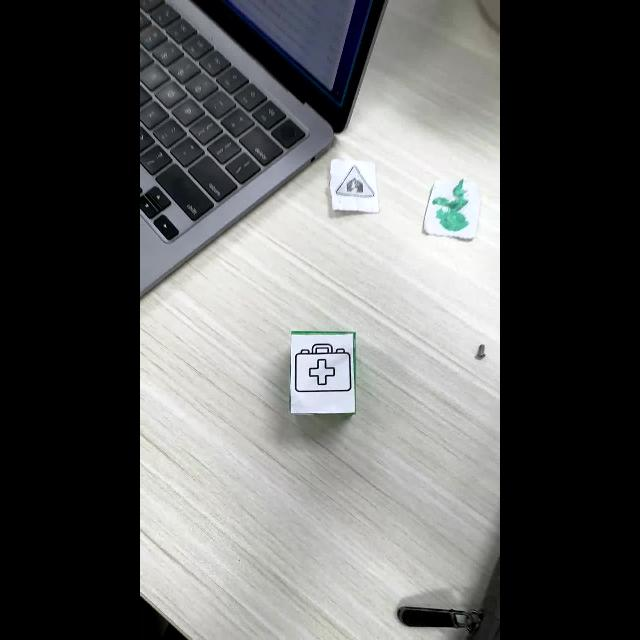Medkit: (295, 342, 353, 393)
